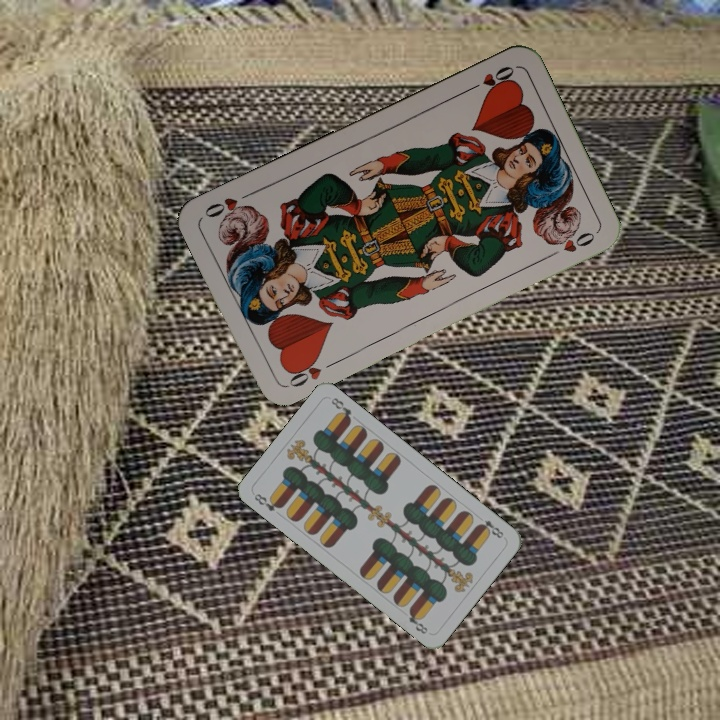E8: (250, 489, 285, 514), (474, 516, 506, 541)
HO: (462, 62, 517, 95), (282, 352, 325, 390)
